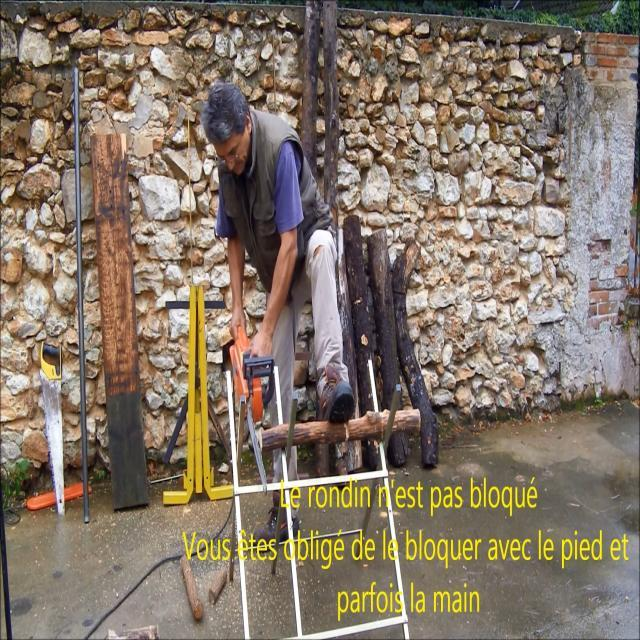Chainsaw: (213, 335, 272, 492)
